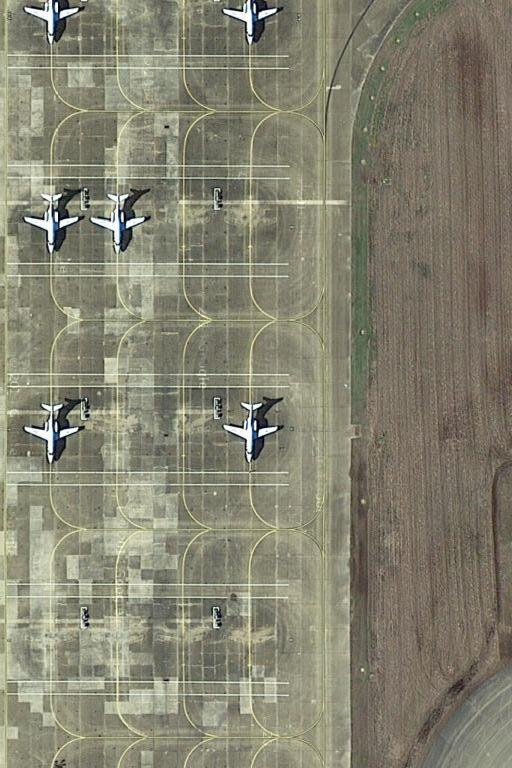plane: (22, 397, 81, 470), (21, 190, 81, 259), (88, 191, 148, 256), (224, 398, 280, 465), (221, 1, 282, 46), (24, 3, 85, 46)
